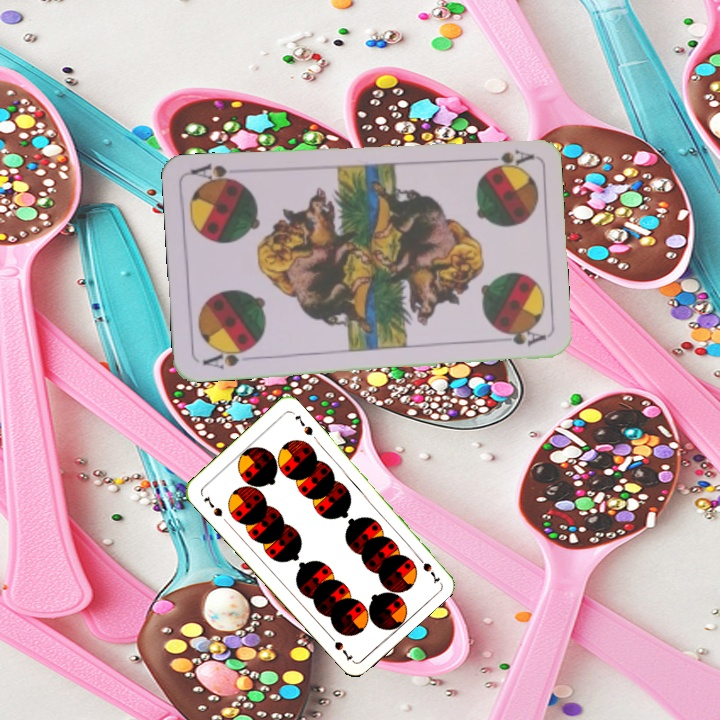S7: (412, 550, 443, 585), (199, 492, 225, 519)
SA: (198, 343, 256, 372), (476, 145, 535, 170)
